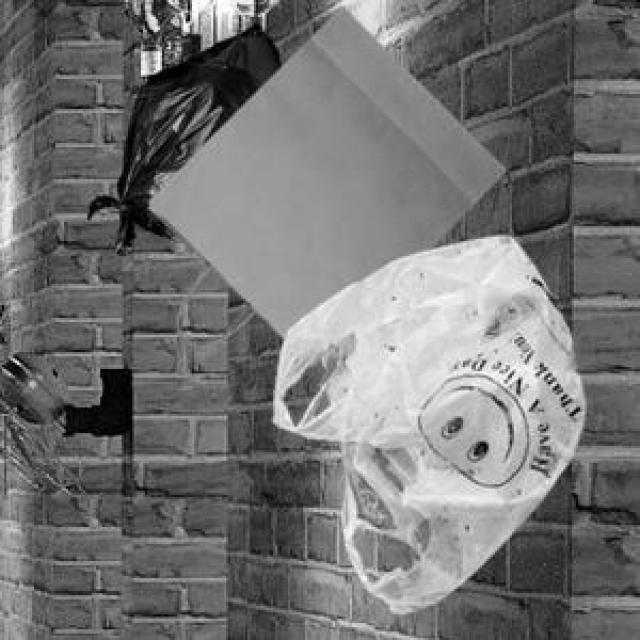miscellaneous trash: (83, 19, 277, 252)
paper: (145, 4, 501, 335)
